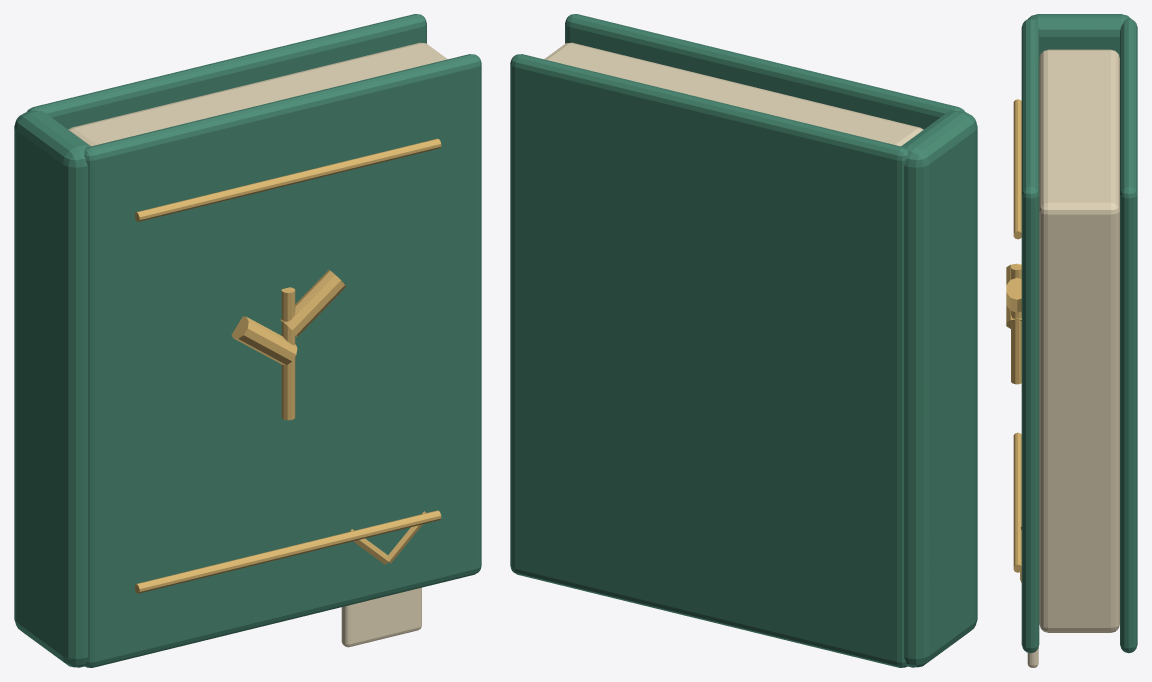
Rendered from book-recipe-v1-DoaxaPOq.glb.
3 renders of one model, left to right at view 1: azimuth 30°, elevation 25°; view 2: azimuth 150°, elevation 25°; view 3: azimuth 270°, elevation 25°, orthographic. The views are drawn at different scales.
Parts seen in each view (by area): view 1: Front cover, Book spine, Back cover, Page block, Folded bookmark strip, Bottom rule, Top rule, Leaf right, Leaf left, Leaf stem; view 2: Back cover, Book spine, Front cover, Page block; view 3: Page block, Front cover, Back cover, Book spine, Top rule, Bottom rule, Leaf stem, Leaf right, Leaf left.
Part boxes in pixels (x1,y1,x2,y2): Front cover: (84,54,481,667); Book spine: (14,111,90,667); Back cover: (27,14,426,129); Page block: (68,42,447,146); Folded bookmark strip: (341,587,421,647); Bottom rule: (135,510,441,593); Top rule: (135,138,441,221); Leaf right: (280,270,345,336); Leaf left: (231,316,297,364); Leaf stem: (281,287,295,420); Back cover: (510,54,907,667); Book spine: (901,111,977,667); Front cover: (565,14,964,129); Page block: (544,42,923,146); Page block: (1039,49,1119,632); Front cover: (1021,18,1039,653); Back cover: (1120,18,1137,653); Book spine: (1028,14,1131,57); Top rule: (1013,99,1021,239); Bottom rule: (1013,432,1021,572); Leaf stem: (1011,265,1021,384); Leaf right: (1006,277,1021,312); Leaf left: (1006,263,1021,328).
Size of the model in its own units: 1.7 by 2.21 by 0.5208.
